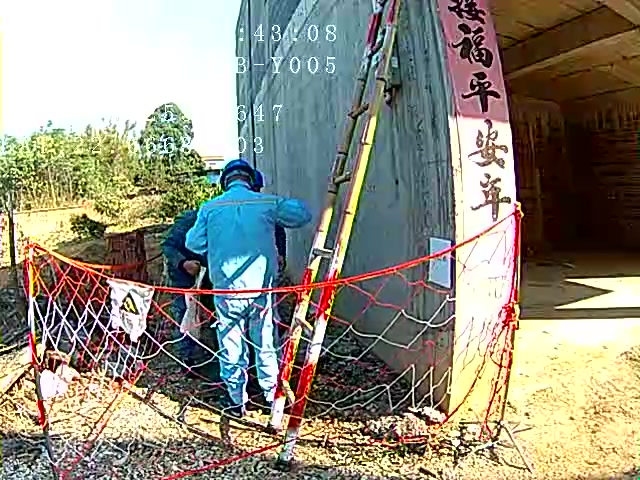halt: (222, 162, 264, 194)
